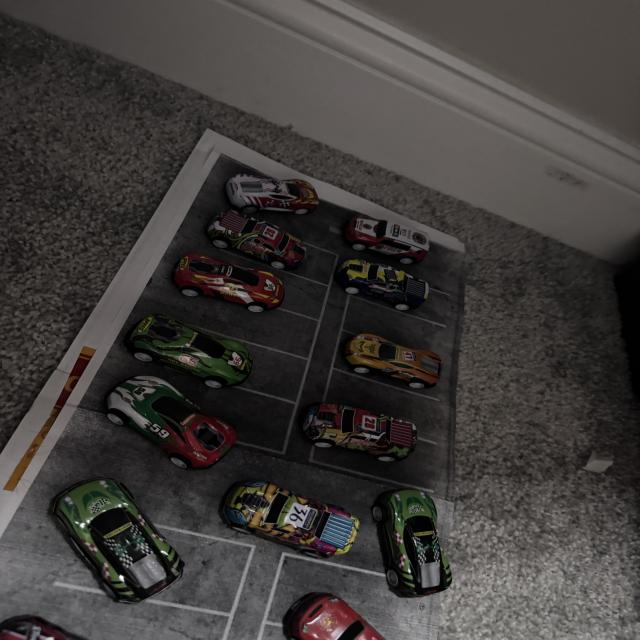car: (54, 476, 220, 640), (69, 361, 258, 503), (224, 479, 405, 612), (158, 220, 280, 310), (296, 387, 410, 475), (118, 311, 265, 378), (378, 468, 457, 592), (334, 326, 446, 404), (217, 137, 321, 218), (339, 205, 480, 263), (198, 202, 318, 266), (296, 585, 404, 640), (327, 254, 410, 296)
